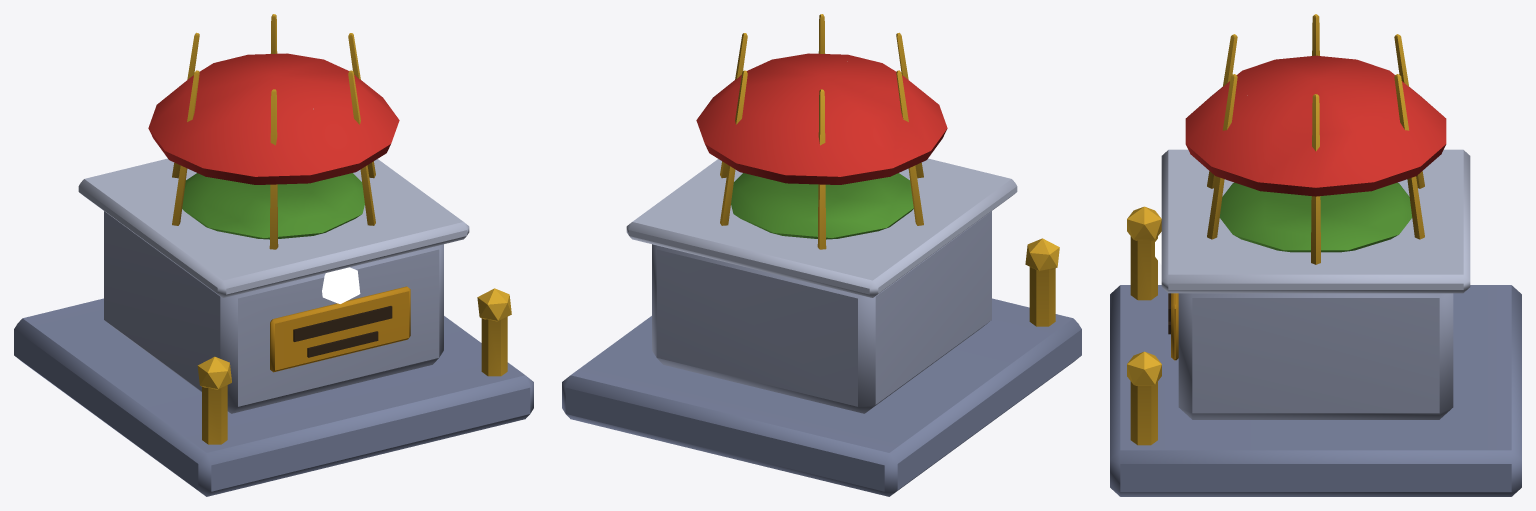
The model's file is b_trophy_moos.glb.
3 views of the same model, side by side, from view 1: azimuth 30°, elevation 25°; view 2: azimuth 150°, elevation 25°; view 3: azimuth 270°, elevation 25° (orthographic). The views are drawn at different scales.
Visible parts, largest first — view 1: body, pulse_gem_glow; view 2: body; view 3: body.
Part boxes in pixels (<box>): body: <box>14,14,533,496</box>; pulse_gem_glow: <box>322,267,360,303</box>; body: <box>562,14,1081,496</box>; body: <box>1110,14,1521,496</box>.
Bounding box in the file's own units: 2.4 × 2.31 × 2.4.
